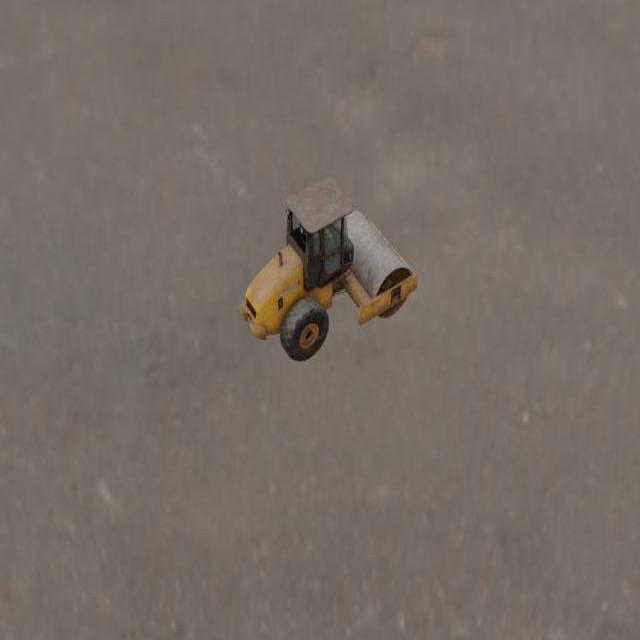Roller: (238, 178, 418, 362)
